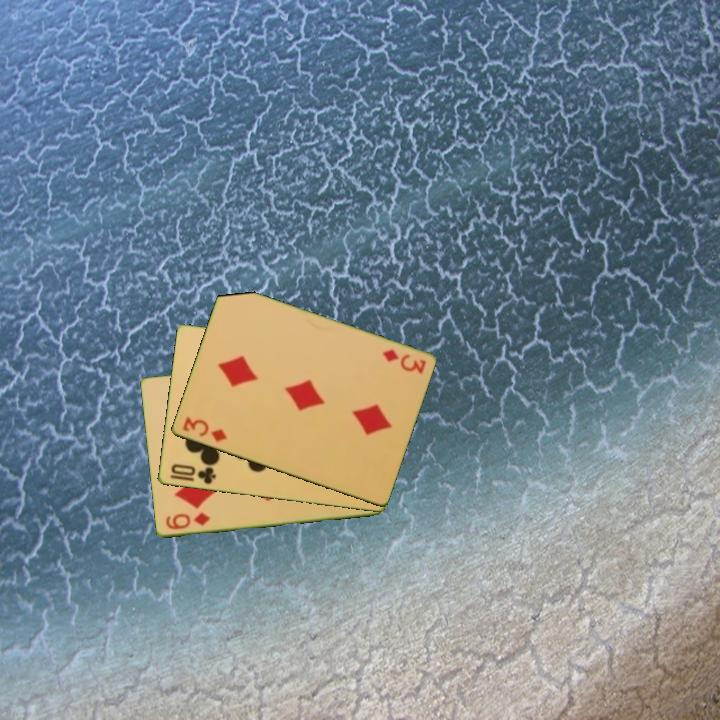10c: (167, 461, 219, 487)
3d: (178, 414, 230, 445), (379, 346, 428, 377)
6d: (162, 509, 213, 533)
